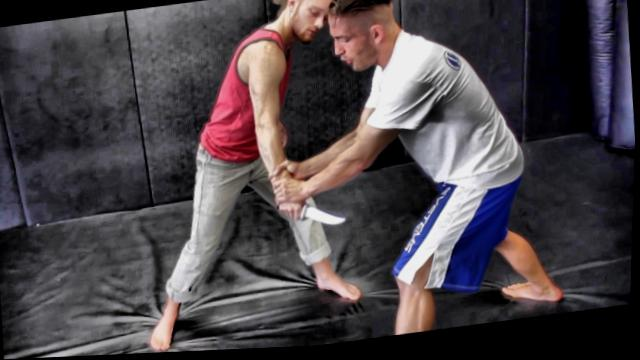knife: (276, 198, 352, 238)
